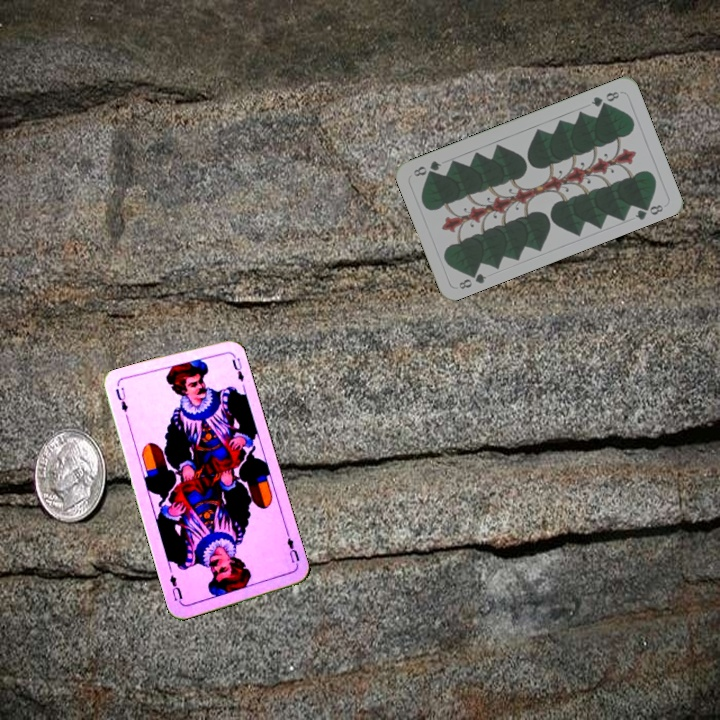EU: (280, 530, 302, 570), (112, 384, 131, 415)
G8: (455, 266, 489, 292), (587, 87, 622, 109)
